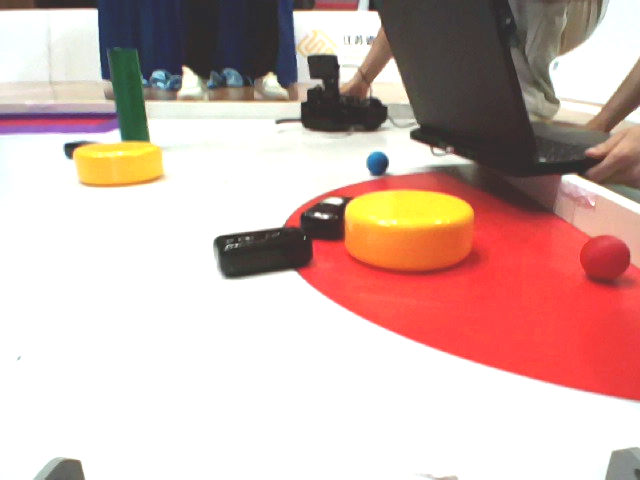black: (189, 221, 322, 276), (293, 180, 353, 253), (52, 136, 108, 161)
blue: (361, 152, 395, 177)
kuang: (1, 102, 127, 139)
red: (575, 219, 632, 295)
yellow: (340, 181, 488, 271), (69, 145, 173, 185)
zhuzi: (103, 35, 162, 156)
